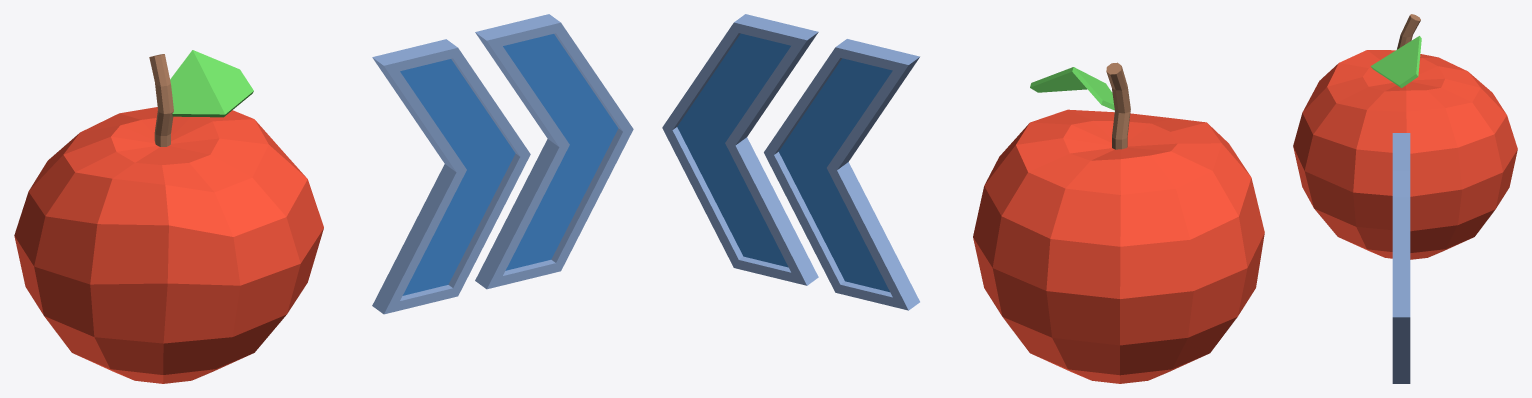
Rendered from Pickups.fbx.
3 renders of one model, left to right at view 1: azimuth 30°, elevation 25°; view 2: azimuth 150°, elevation 25°; view 3: azimuth 270°, elevation 25°, orthographic. The views are drawn at different scales.
Visible parts, largest first — view 1: Apple, SpeedPowerup; view 2: Apple, SpeedPowerup; view 3: Apple, SpeedPowerup.
Part boxes in pixels (bbox=[...]): Apple: bbox=[14, 50, 323, 383]; SpeedPowerup: bbox=[372, 14, 633, 314]; Apple: bbox=[973, 62, 1264, 383]; SpeedPowerup: bbox=[662, 14, 919, 310]; Apple: bbox=[1293, 14, 1517, 259]; SpeedPowerup: bbox=[1392, 133, 1410, 383].
Size of the model in its own units: 1.14 by 0.5797 by 0.5032.
